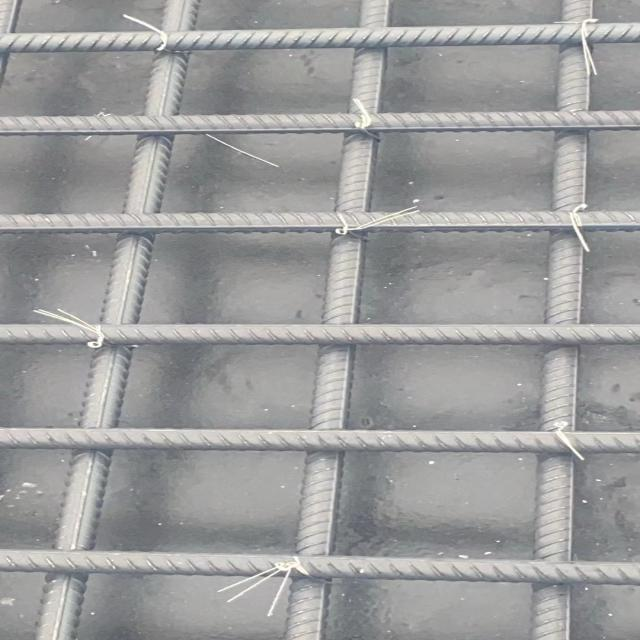ribbed bar: (30, 0, 198, 639), (281, 0, 392, 639), (529, 0, 594, 639), (0, 549, 639, 585), (0, 21, 639, 55), (0, 108, 639, 137), (0, 426, 639, 454), (0, 212, 639, 235), (0, 323, 639, 346)
